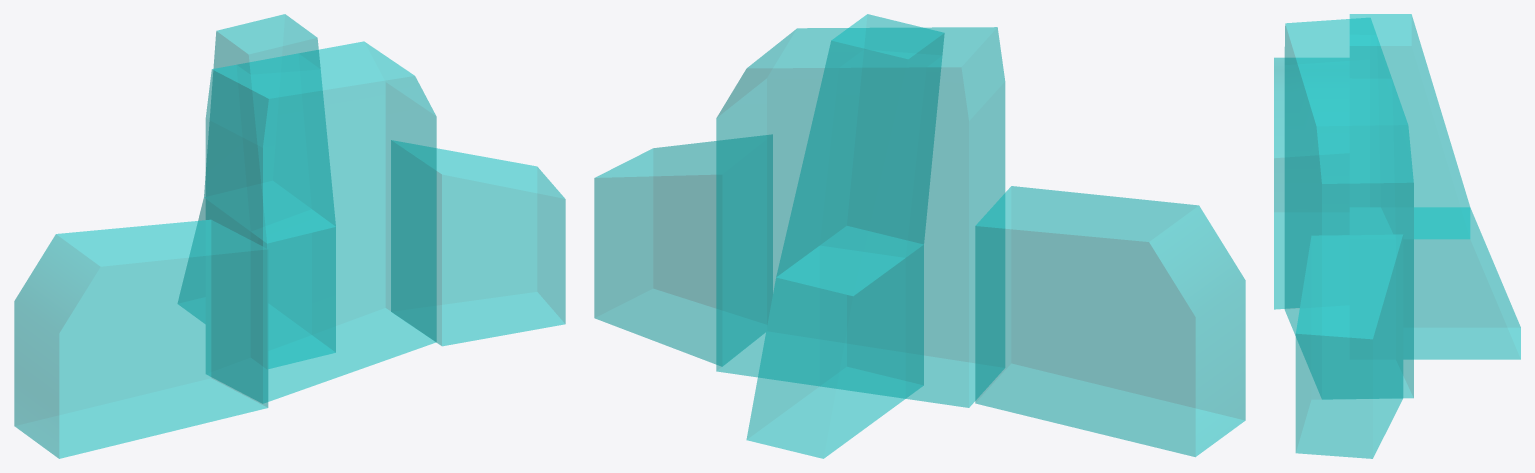
Rendered from SM_Env_Ruin_02_Collision_01.fbx.
3 views of the same model, side by side, from view 1: azimuth 30°, elevation 25°; view 2: azimuth 150°, elevation 25°; view 3: azimuth 270°, elevation 25° (orthographic). The views are drawn at different scales.
Parts seen in each view (by area): view 1: SM_Env_Ruin_02_Collision_01; view 2: SM_Env_Ruin_02_Collision_01; view 3: SM_Env_Ruin_02_Collision_01.
Part boxes in pixels (x1,y1,x2,y2): SM_Env_Ruin_02_Collision_01: (14,14,565,458); SM_Env_Ruin_02_Collision_01: (594,14,1245,458); SM_Env_Ruin_02_Collision_01: (1274,14,1520,458).
Size of the model in its own units: 323 by 186 by 137.
